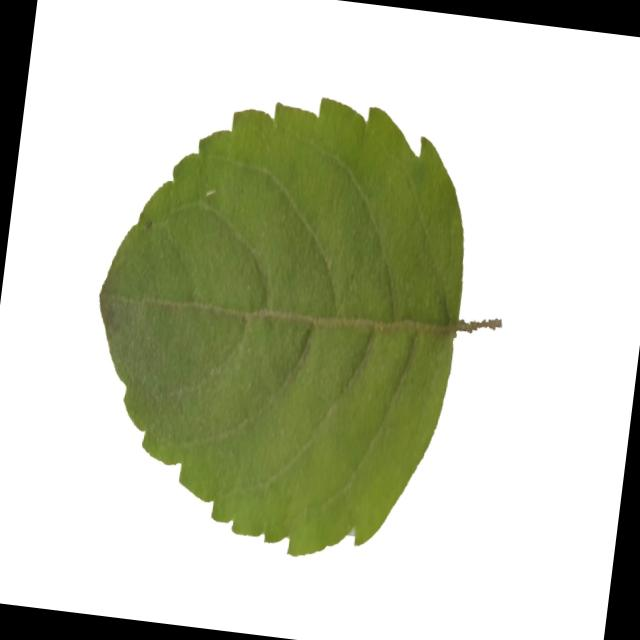tulsi: (70, 71, 524, 580)
